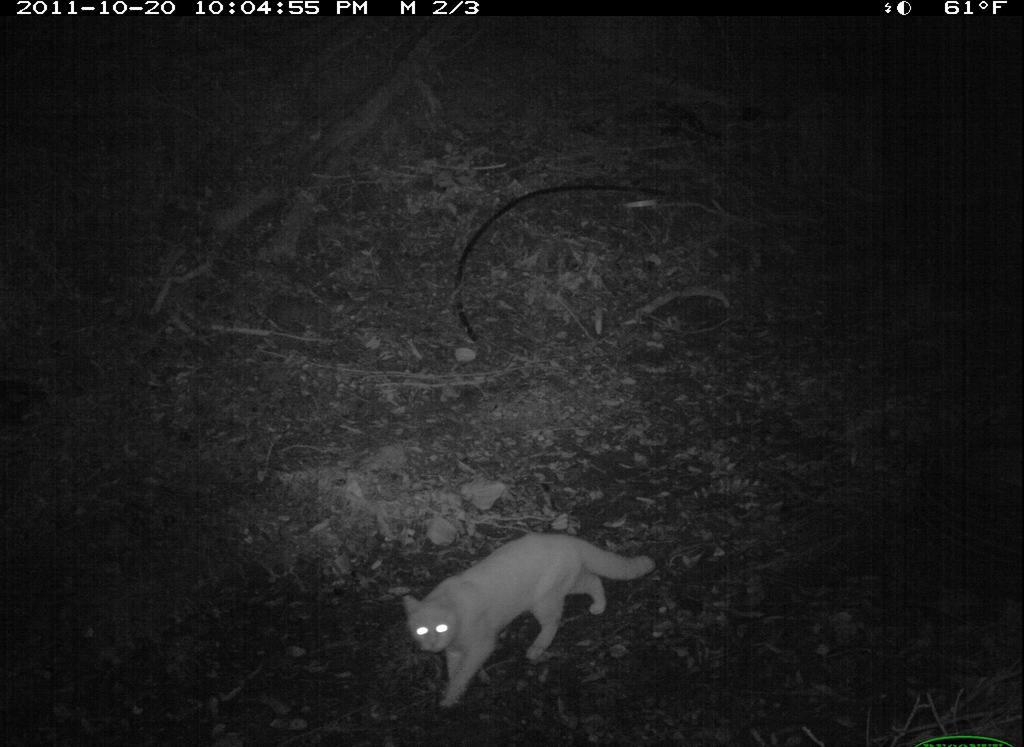cat: (396, 528, 662, 711)
